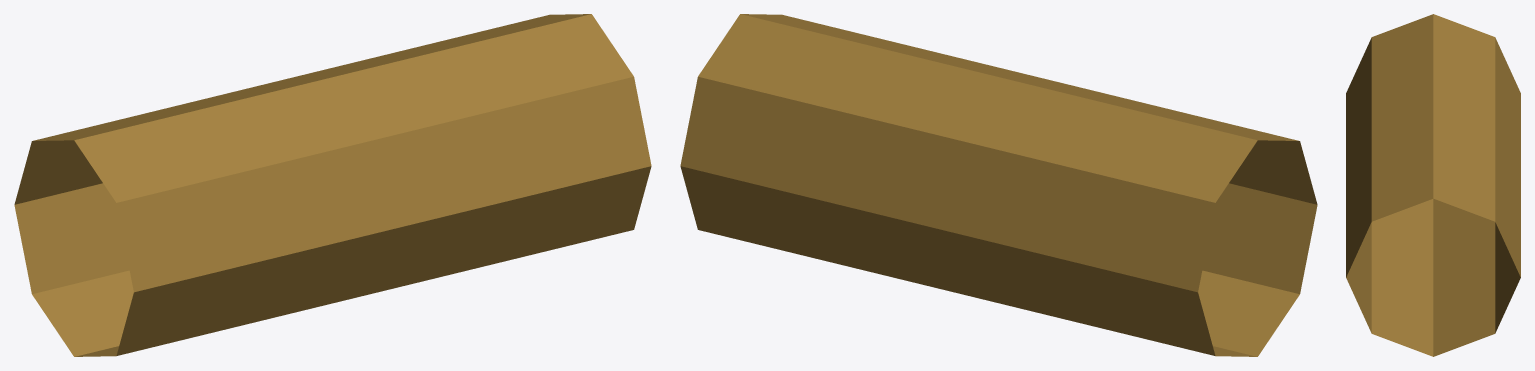
Rendered from SM_Props_Industrial_Pipe_Straight.fbx.
3 views of the same model, side by side, from view 1: azimuth 30°, elevation 25°; view 2: azimuth 150°, elevation 25°; view 3: azimuth 270°, elevation 25° (orthographic). The views are drawn at different scales.
Visible parts, largest first — view 1: SM_Props_Industrial_Pipe_Straight; view 2: SM_Props_Industrial_Pipe_Straight; view 3: SM_Props_Industrial_Pipe_Straight.
Boxes of the visible parts, x1,y1,x2,y2 form: SM_Props_Industrial_Pipe_Straight: (14, 14, 651, 356); SM_Props_Industrial_Pipe_Straight: (680, 14, 1317, 356); SM_Props_Industrial_Pipe_Straight: (1346, 14, 1520, 356).
Size of the model in its own units: 250 by 100 by 100.
